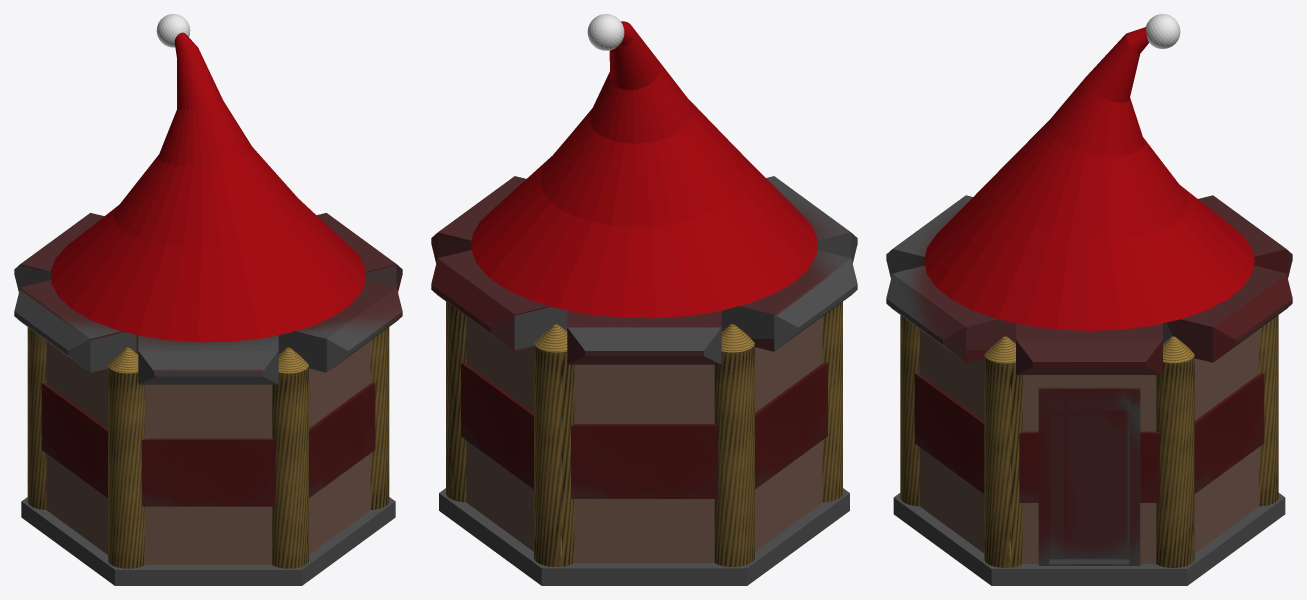
File: House.fbx
The picture shows the model from 3 angles, left to right: view 1: azimuth 30°, elevation 25°; view 2: azimuth 150°, elevation 25°; view 3: azimuth 270°, elevation 25°; orthographic projection. The views are drawn at different scales.
Parts seen in each view (by area): view 1: Cone, Wall1, Cylinder.001, Wall3, Wall6, Cylinder, Log1, Log3, Log5, Log6, Cone.001; view 2: Cone, Wall4, Cylinder.001, Wall2, Wall6, Cylinder, Log2, Log5, Log3, Log4, Cone.001; view 3: Cone, Cylinder.001, Cube, Wall2, Wall3, Cylinder, Log4, Log6, Wall5, Log1, Log2, Cone.001.
Boxes of the visible parts, x1,y1,x2,y2 form: Cone: [50, 32, 366, 342]; Wall1: [141, 384, 275, 564]; Cylinder.001: [14, 213, 402, 384]; Wall3: [309, 341, 375, 554]; Wall6: [41, 341, 107, 554]; Cylinder: [21, 497, 395, 585]; Log1: [272, 347, 308, 568]; Log3: [108, 347, 144, 568]; Log5: [27, 327, 46, 509]; Log6: [370, 327, 389, 509]; Cone.001: [156, 14, 190, 47]; Cone: [471, 21, 817, 318]; Wall4: [571, 364, 717, 562]; Cylinder.001: [431, 176, 857, 364]; Wall2: [461, 316, 533, 551]; Wall6: [755, 316, 827, 551]; Cylinder: [439, 488, 849, 585]; Log2: [534, 324, 574, 566]; Log5: [714, 324, 754, 566]; Log3: [822, 302, 842, 502]; Log4: [446, 302, 466, 502]; Cone.001: [587, 14, 624, 50]; Cone: [924, 27, 1254, 330]; Cylinder.001: [886, 195, 1292, 374]; Cube: [1038, 387, 1140, 565]; Wall2: [1194, 329, 1264, 553]; Wall3: [914, 329, 984, 553]; Cylinder: [893, 493, 1285, 585]; Log4: [1156, 336, 1194, 567]; Log6: [984, 336, 1022, 567]; Wall5: [1019, 375, 1159, 563]; Log1: [900, 315, 919, 506]; Log2: [1259, 315, 1278, 506]; Cone.001: [1146, 14, 1180, 48].
Bounding box in the file's own units: 1081 × 1473 × 1088.
Materials: 7 (4 with a texture image).
